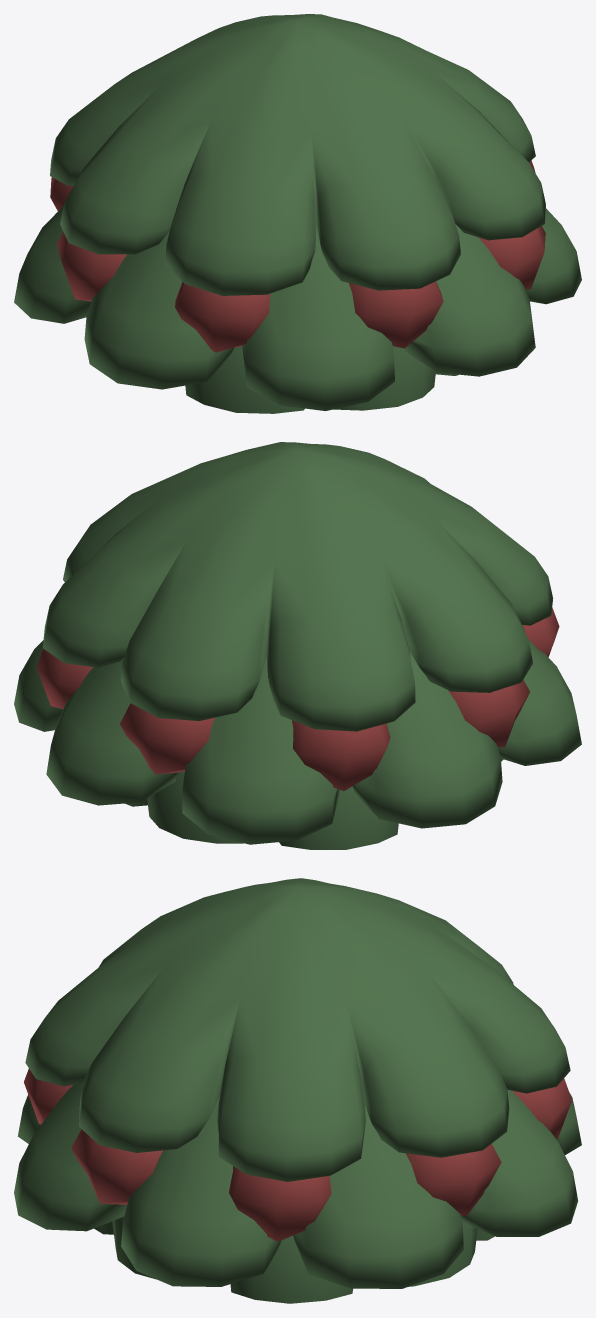
File: Bush_Fruit_001.gltf
3 views of the same model, one above another, from view 1: azimuth 30°, elevation 25°; view 2: azimuth 150°, elevation 25°; view 3: azimuth 270°, elevation 25° (orthographic). The views are drawn at different scales.
Parts seen in each view (by area): view 1: Bush_Fruit.001; view 2: Bush_Fruit.001; view 3: Bush_Fruit.001.
Part boxes in pixels (x1,y1,x2,y2): Bush_Fruit.001: (14, 14, 581, 413); Bush_Fruit.001: (14, 442, 581, 849); Bush_Fruit.001: (14, 878, 581, 1303).
Size of the model in its own units: 2.35 by 1.48 by 2.35.
